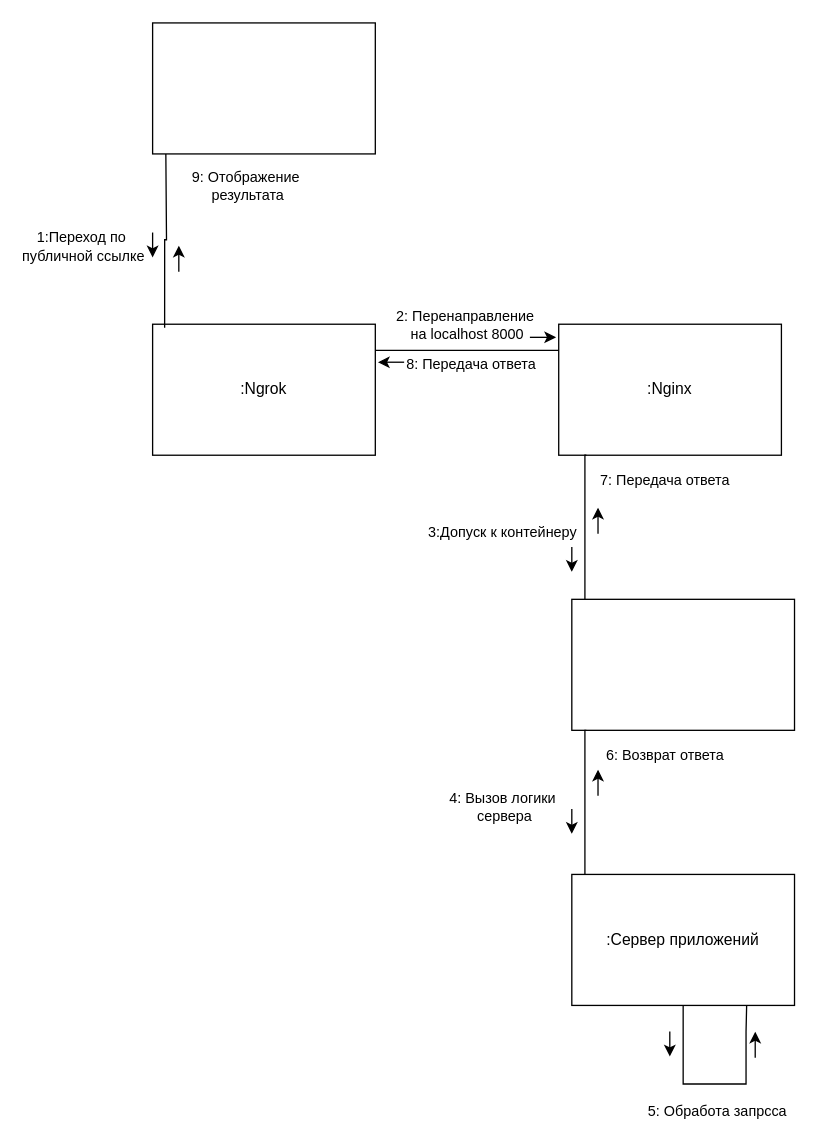
Some shapes in this 817 by 1142 pixel diagram are drawn without their labels. Each missing label, with the centre of its shape:
":Docker" goes at pixel 683 664.
":Пользователь" goes at pixel 263 88.
